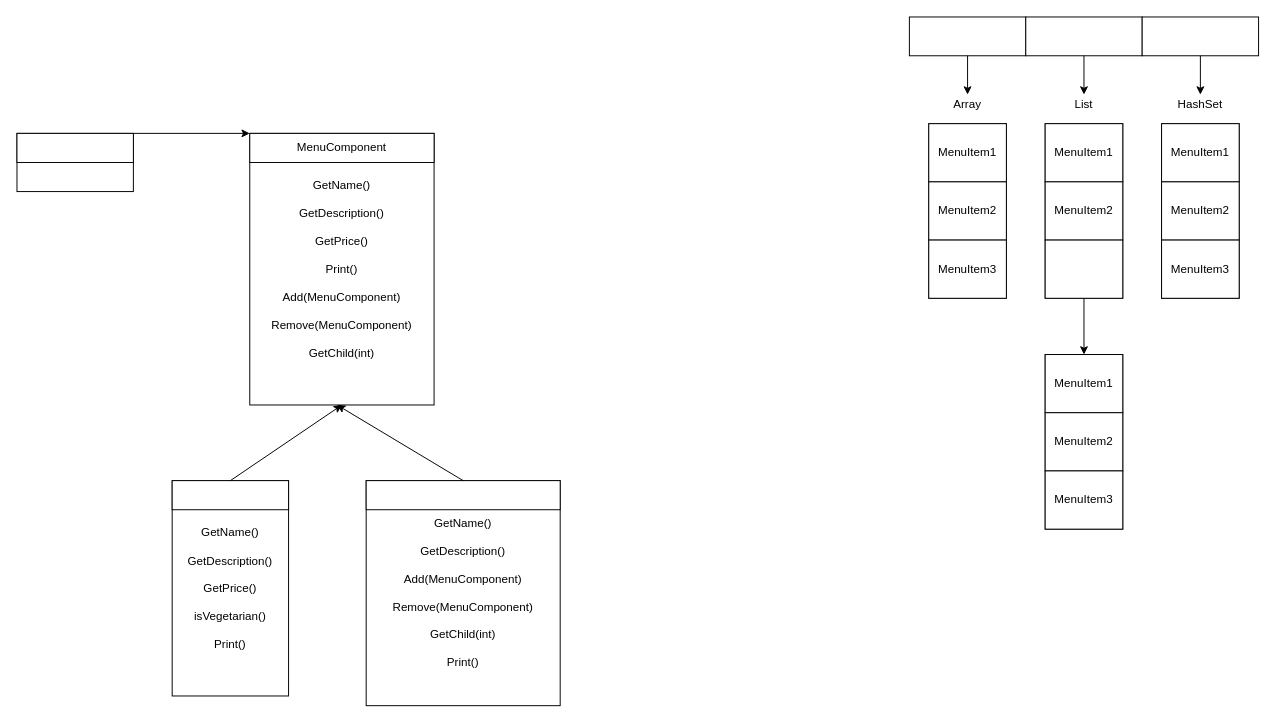
This 1276x723 diagram has some shape labels left out. The shapes that lost their labels are listed below. From the top down, each one's centre as x and y in pixels, then its label:
At (x=967, y=36): "PancakeHouseMenu".
At (x=1083, y=36): "DinerMenu".
At (x=1200, y=36): "CafeMenu".
At (x=74, y=147): "Waitress".
At (x=1083, y=268): "MenuItem3 ( DessertMenu)".
At (x=230, y=495): "MenuItem".
At (x=462, y=495): "Menu".
